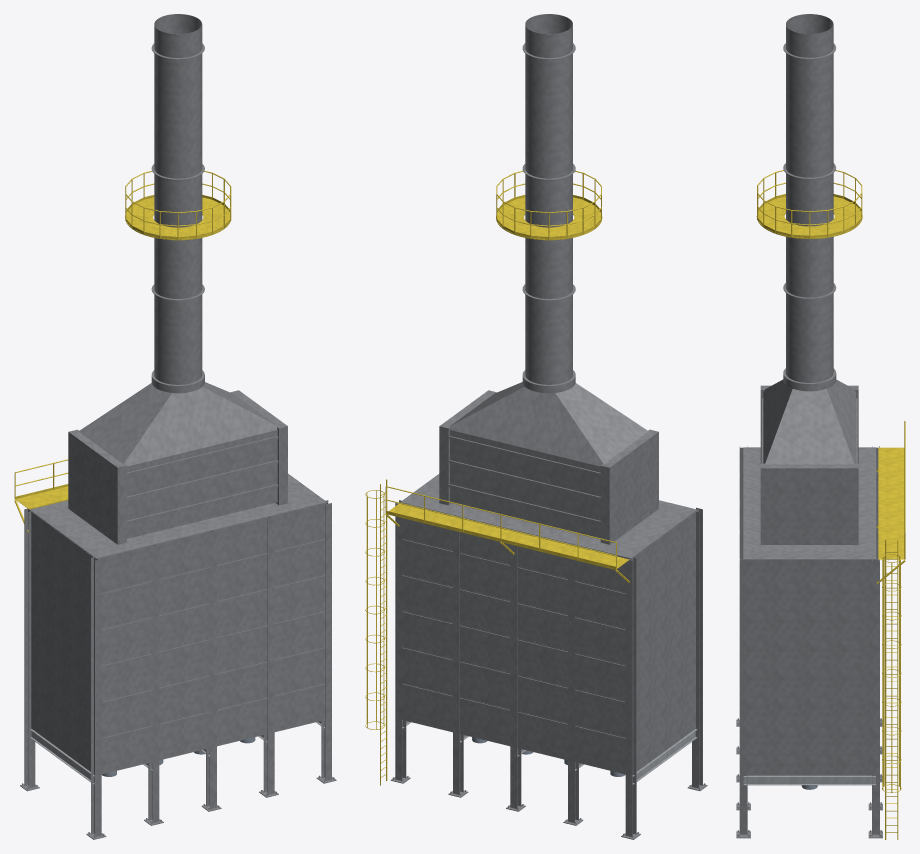
The model's file is fired-heater-casings.glb.
The picture shows the model from 3 angles, left to right: view 1: azimuth 30°, elevation 25°; view 2: azimuth 150°, elevation 25°; view 3: azimuth 270°, elevation 25°; orthographic projection.
Visible parts, largest first — view 1: RadiantCasing&Columns, Stack, ConvectionModule, Breeching&Damper, Platforms&Ladders, Floor&BurnerOpenings; view 2: RadiantCasing&Columns, ConvectionModule, Stack, Platforms&Ladders, Breeching&Damper, Floor&BurnerOpenings; view 3: RadiantCasing&Columns, Stack, Platforms&Ladders, ConvectionModule, Breeching&Damper, Floor&BurnerOpenings.
Part boxes in pixels (x1,y1,x2,y2): RadiantCasing&Columns: (20, 474, 336, 839); Stack: (151, 14, 204, 393); ConvectionModule: (68, 390, 287, 544); Breeching&Damper: (78, 370, 277, 466); Platforms&Ladders: (14, 170, 231, 533); Floor&BurnerOpenings: (28, 720, 324, 784); RadiantCasing&Columns: (390, 474, 707, 839); ConvectionModule: (439, 390, 658, 544); Stack: (522, 14, 575, 393); Platforms&Ladders: (365, 170, 629, 785); Breeching&Damper: (450, 370, 648, 466); Floor&BurnerOpenings: (402, 720, 697, 784); RadiantCasing&Columns: (736, 446, 882, 838); Stack: (783, 14, 836, 391); Platforms&Ladders: (756, 170, 905, 839); ConvectionModule: (760, 385, 858, 544); Breeching&Damper: (763, 368, 855, 464); Floor&BurnerOpenings: (743, 775, 875, 785).
Size of the model in its own units: 11.41 by 31.51 by 6.4.
Materials: 4 (4 with a texture image).
